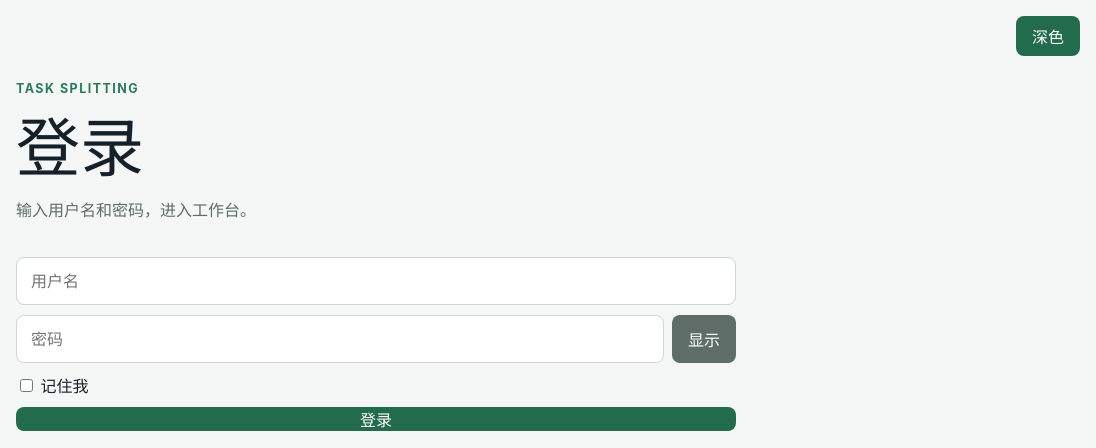
Test case: LoginForm password toggle (T-UI-03) › switches the password input to type="text" when the toggle is clicked
Step 1. Click the button "显示" → (704, 339), box [672,315,736,363]
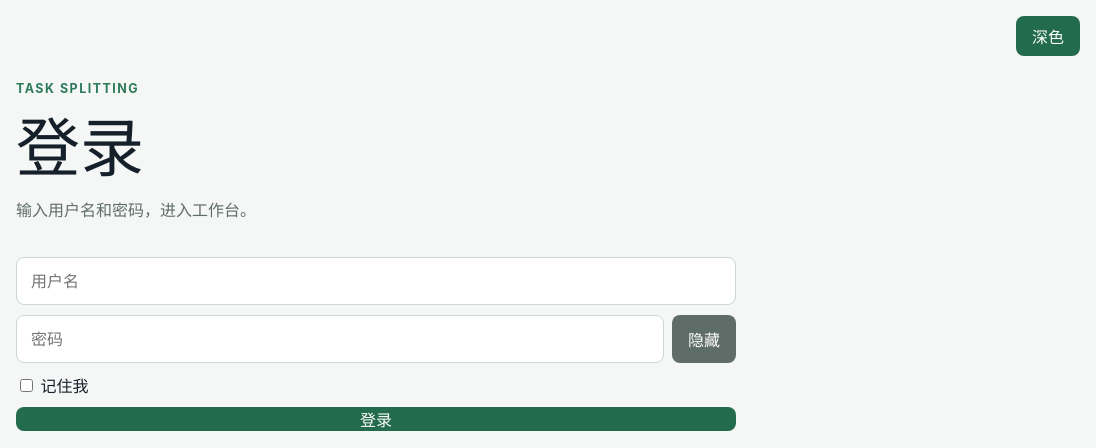
Now the button "隐藏" is shown, box [672,315,736,363]
